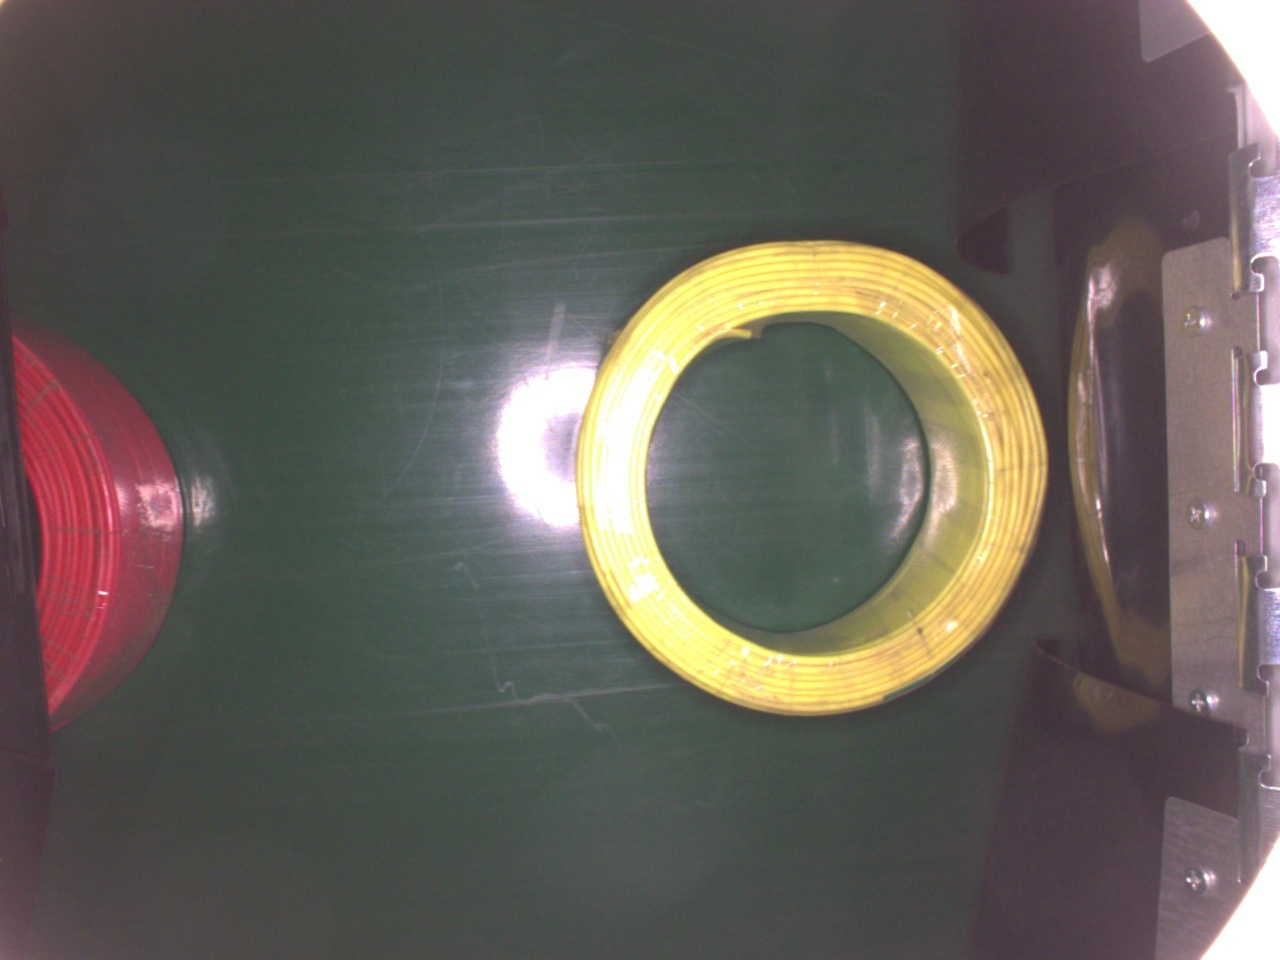red: (11, 307, 189, 739)
yellow: (558, 234, 1052, 724)
